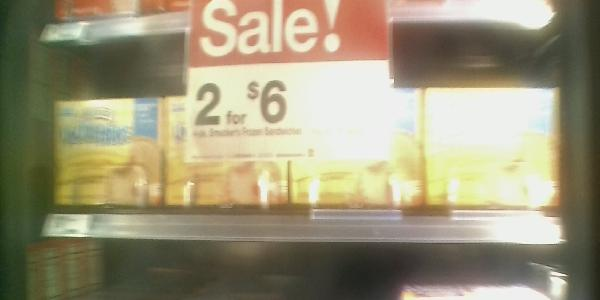icecream: (427, 84, 562, 221), (289, 86, 425, 220), (160, 92, 290, 220), (51, 94, 163, 212)
